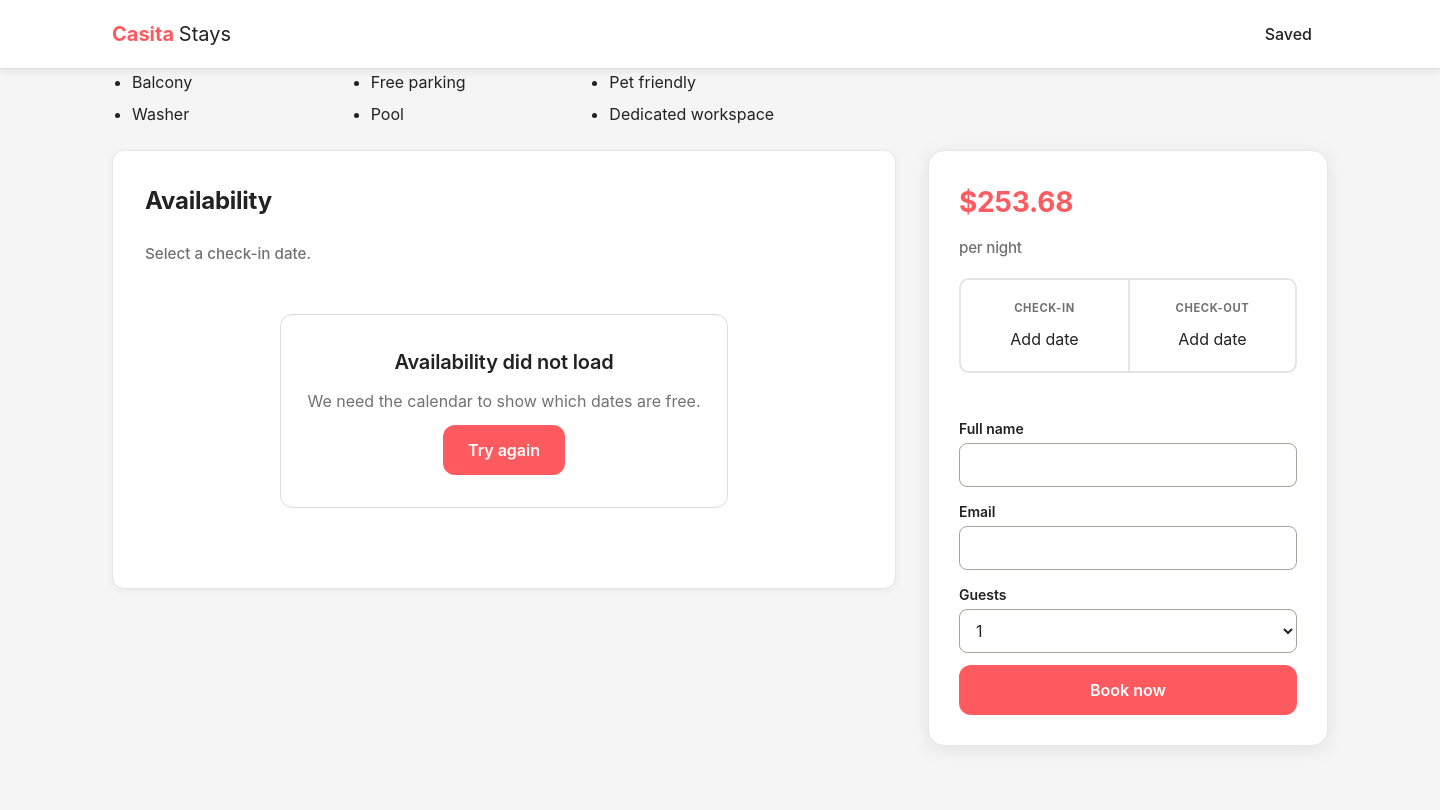
availability retry › refetches only the month that failed
(page scrolled)
Click the button "Try again" at (504, 450), box left=443, top=425, right=565, bottom=475
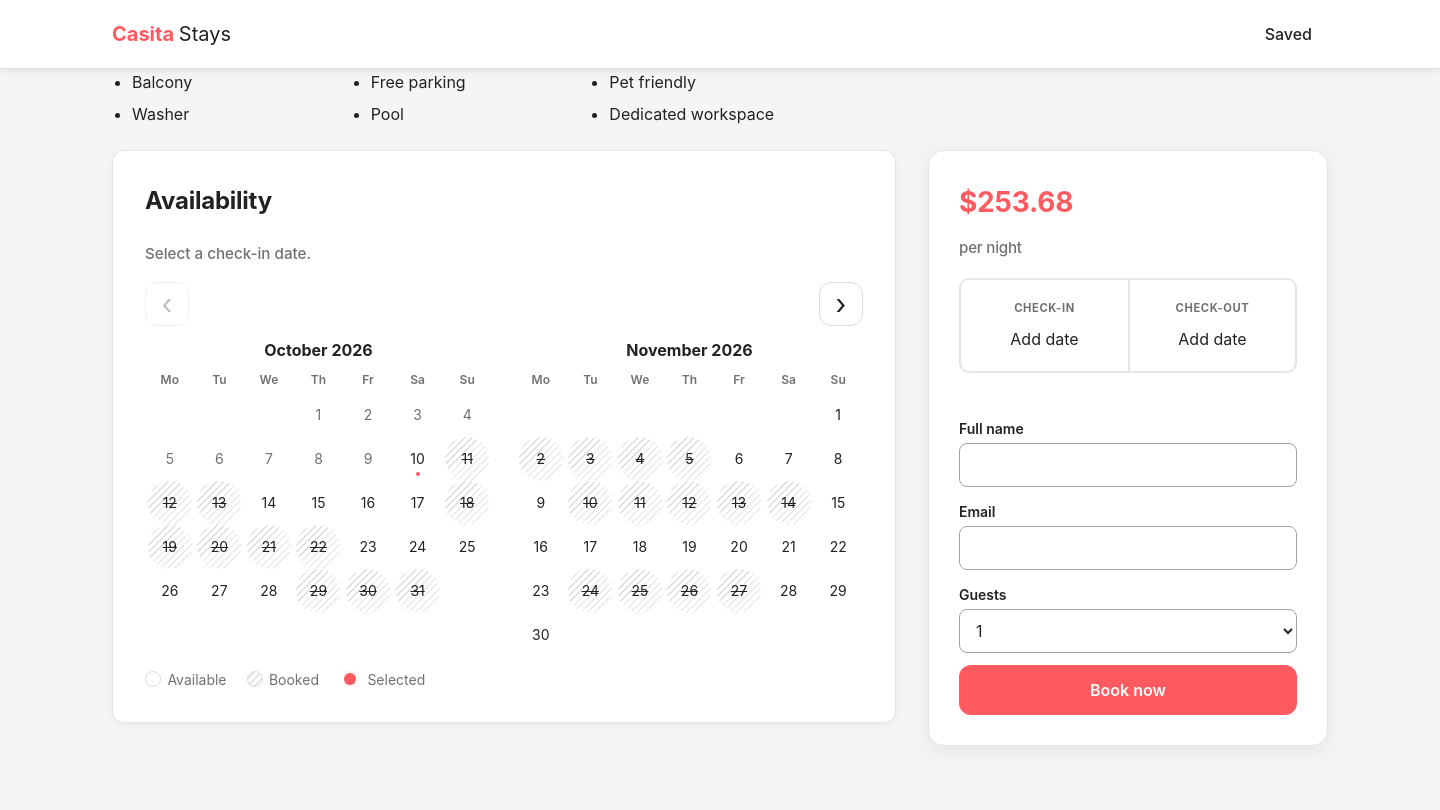
Expected: the heading "Availability did not load" is gone
